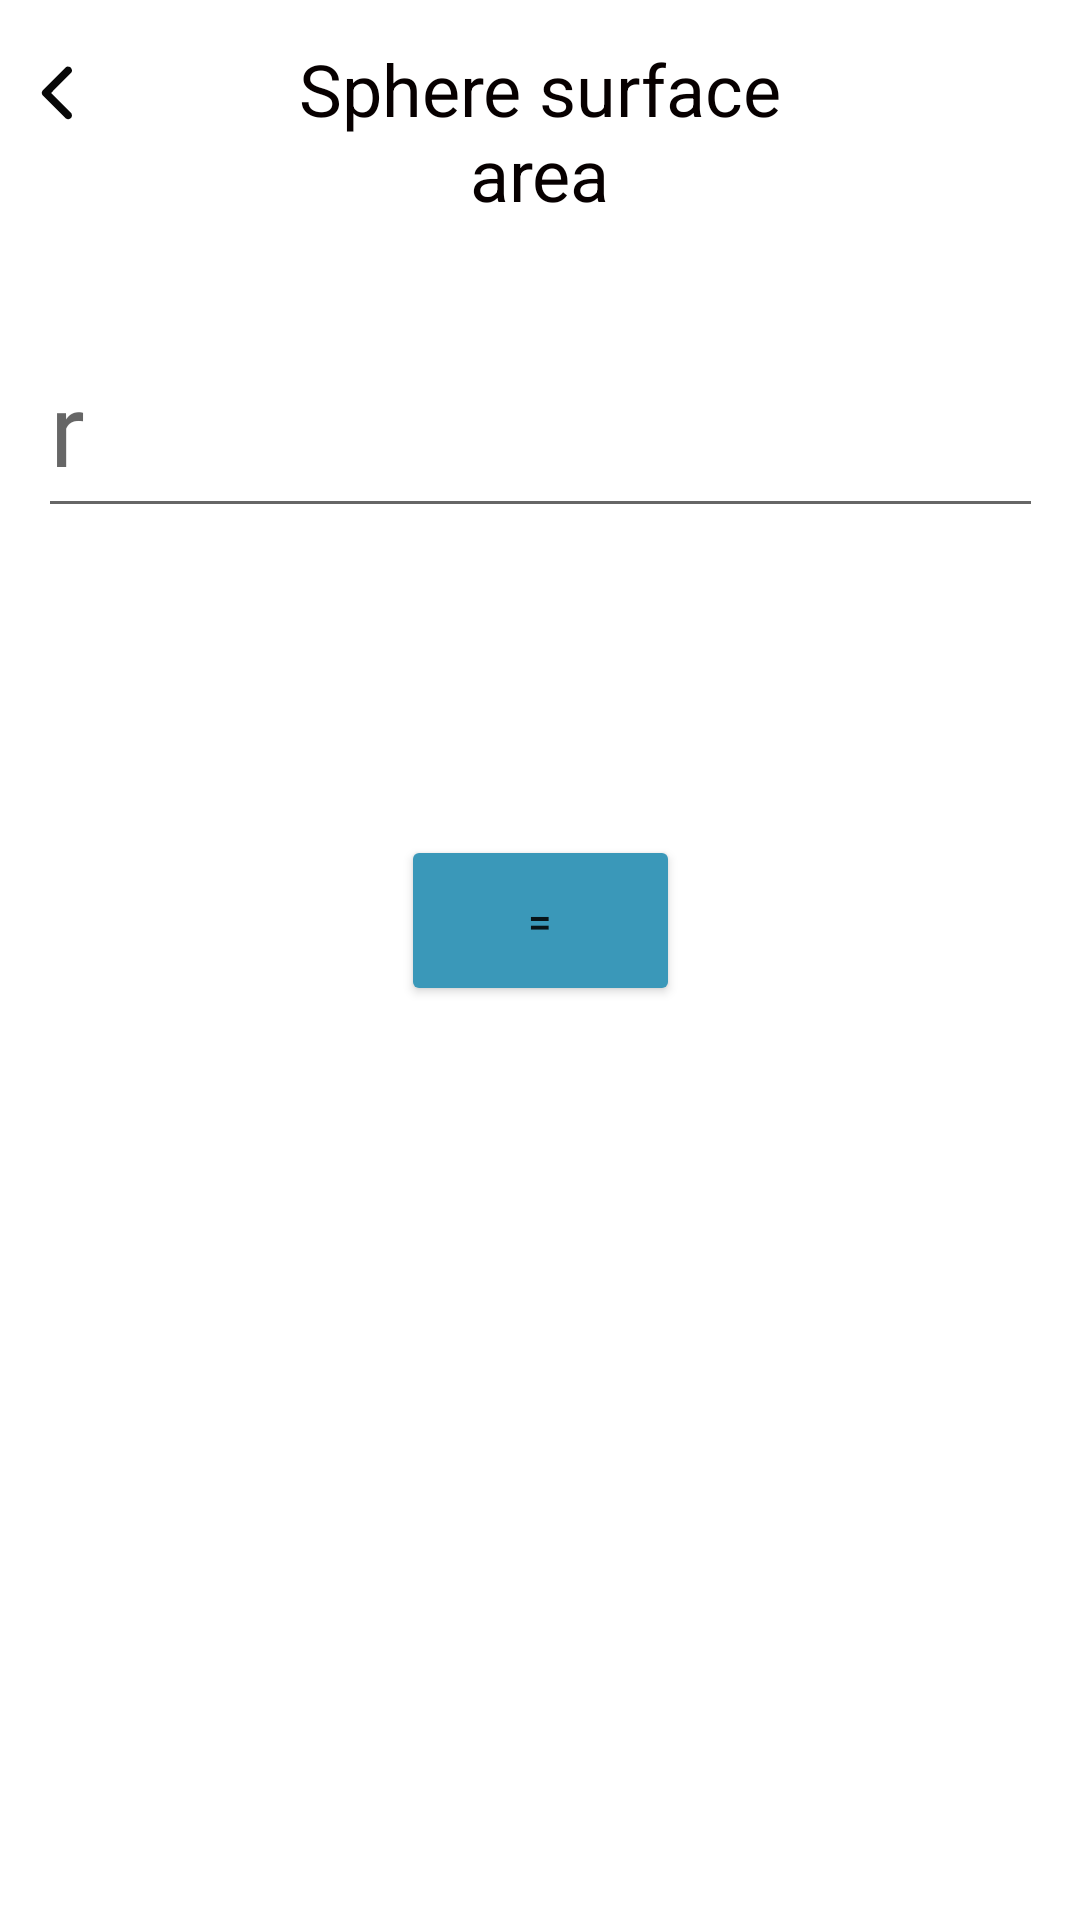

Named icons in this screenshot (1080 x 1920) and their centers, [x,y]:
back: [56,93]
